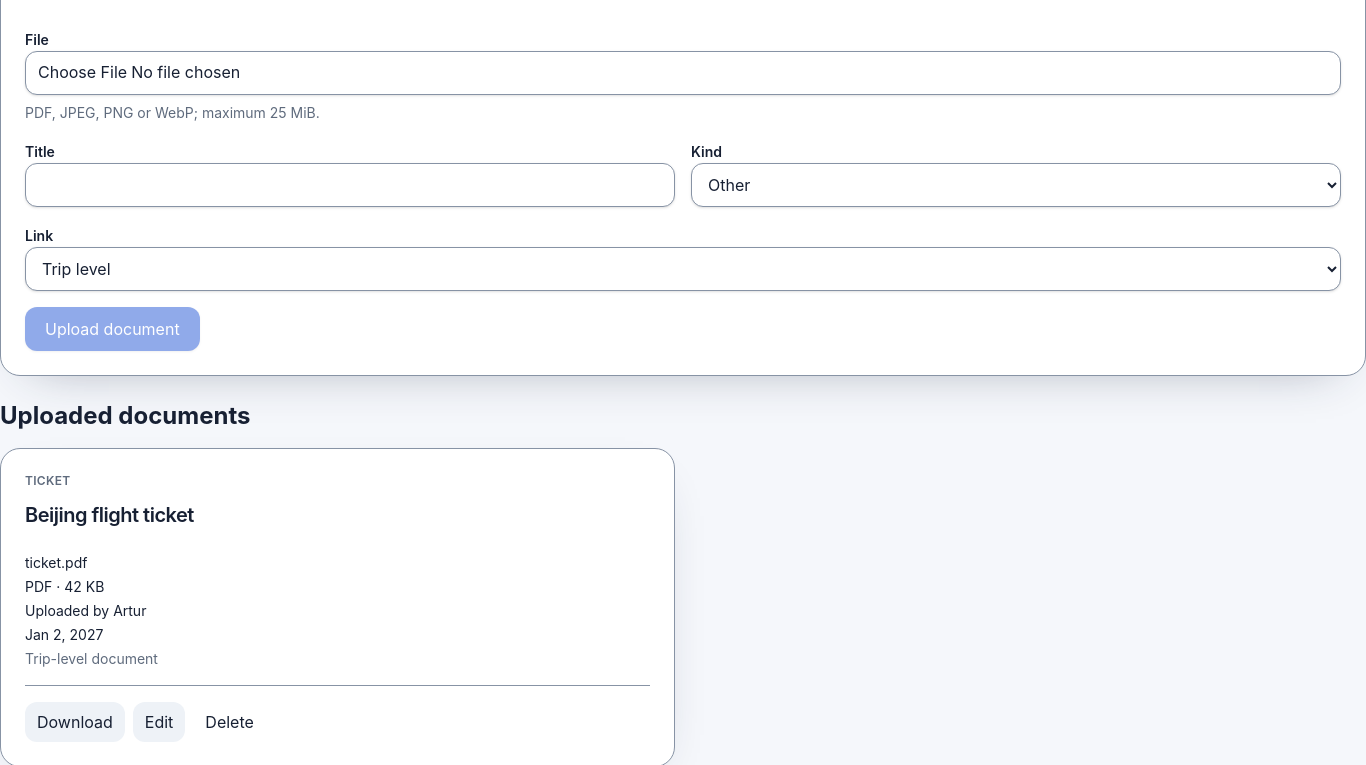
Test: DocumentsScreen › shows a controlled per-document download error
(page scrolled)
Click the button "Download " at [75, 722], box [25,702,125,742]
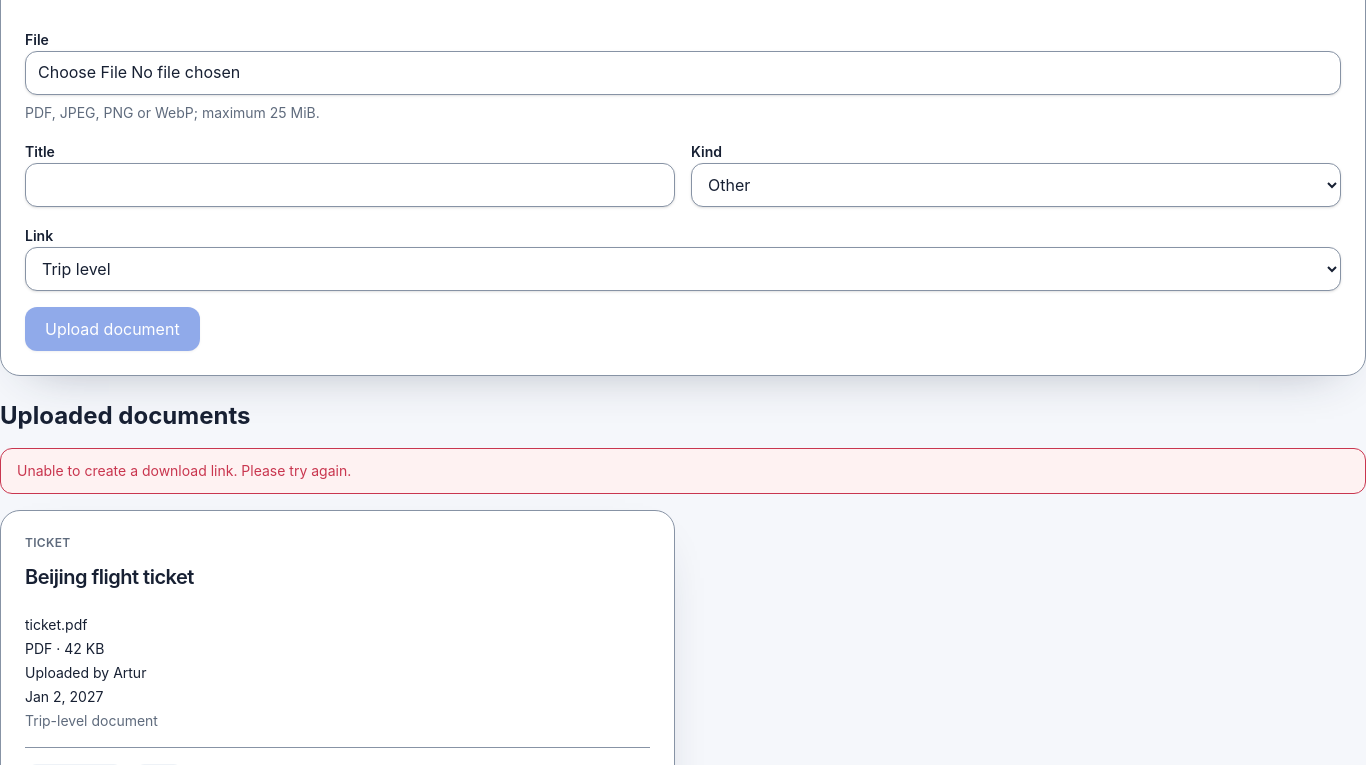
expect the message shows "Unable to create a download link": met, box [17,462,351,479]
